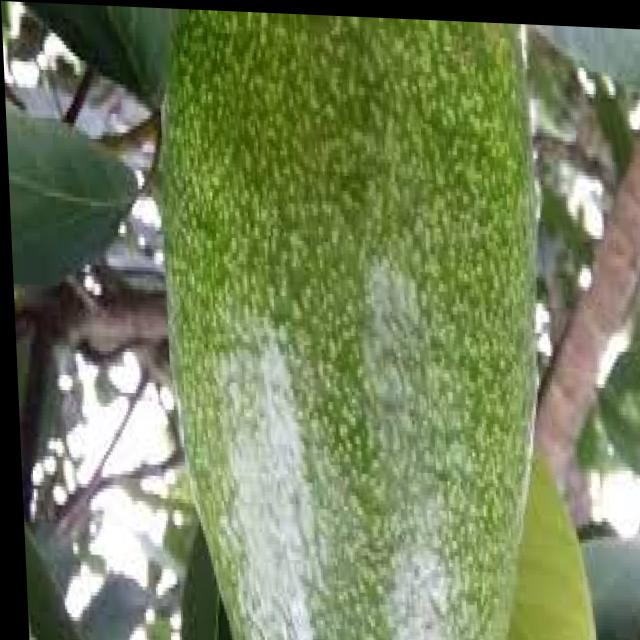Bo: (146, 16, 546, 640)
